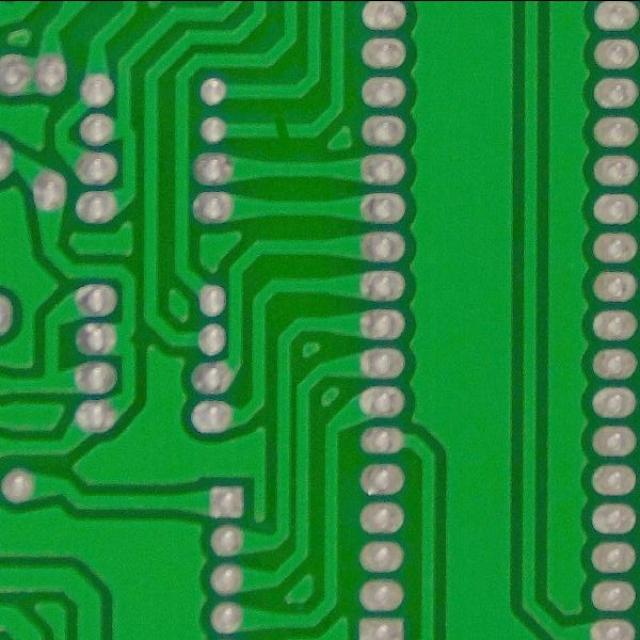Open_Circuit: (261, 107, 303, 149)
